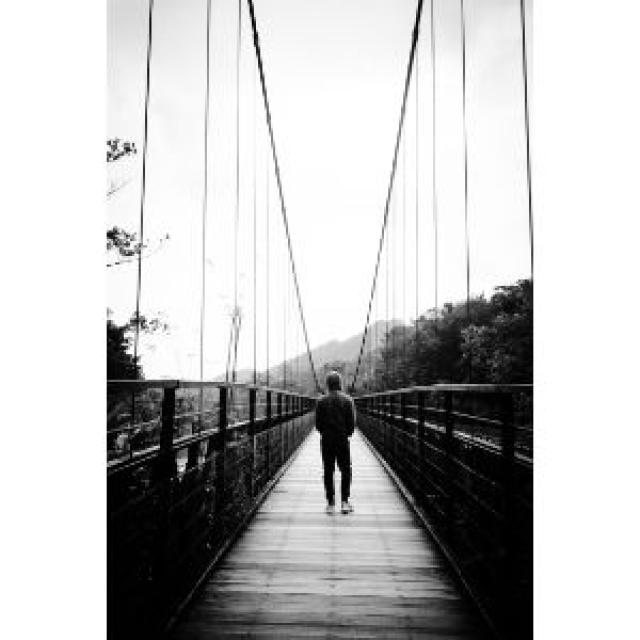nonfall: (295, 354, 374, 522)
